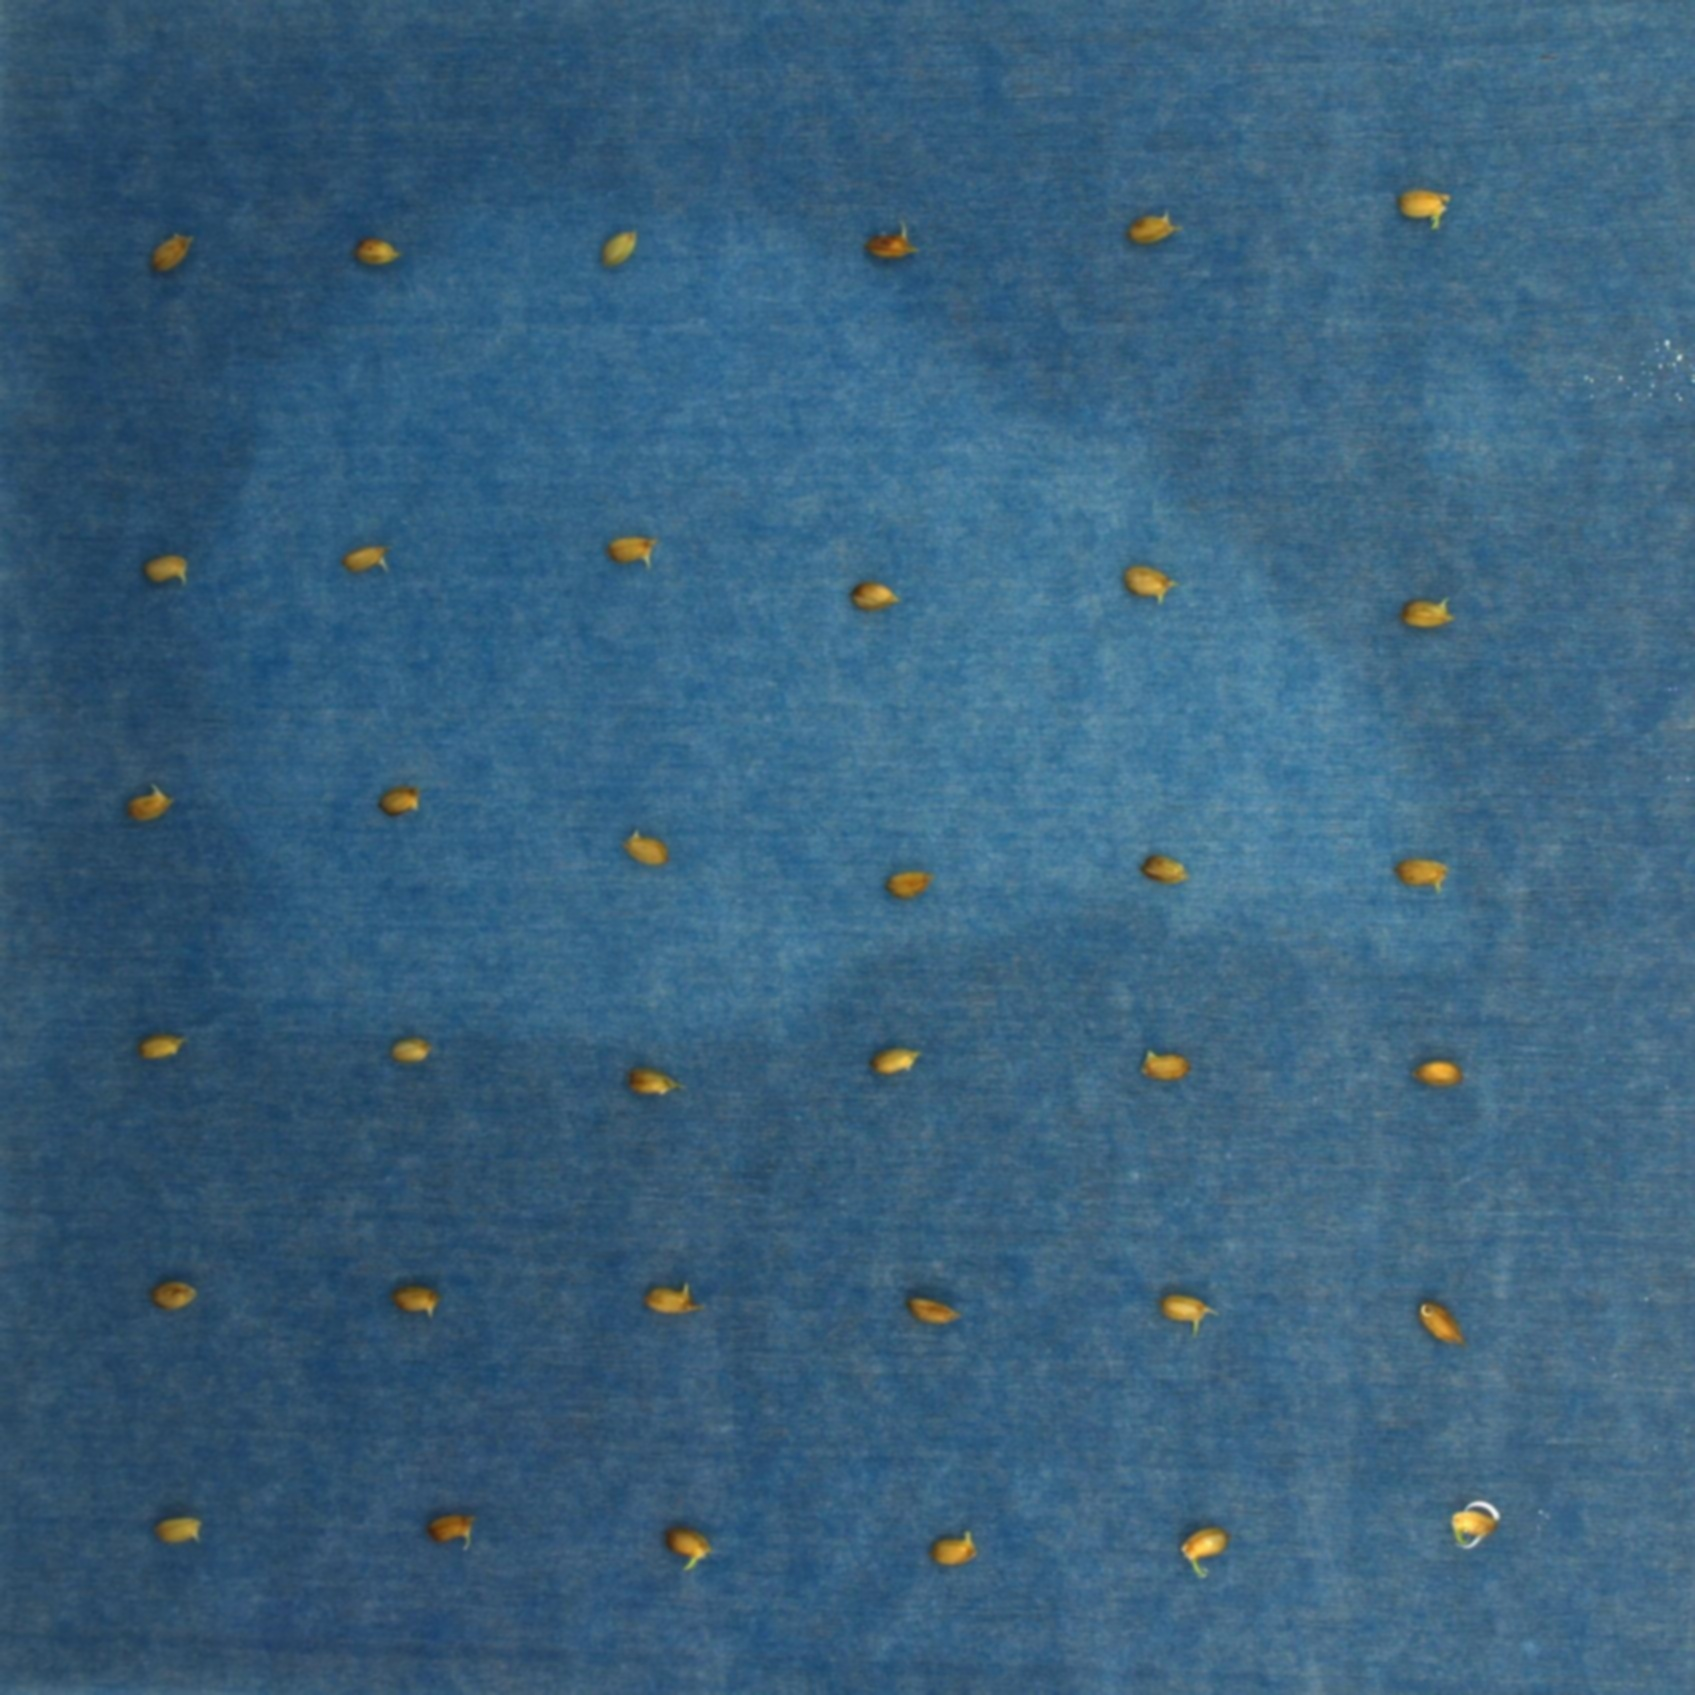not sprout: (866, 213, 924, 264), (1175, 1530, 1231, 1579), (1395, 851, 1453, 896), (1399, 591, 1458, 633), (1159, 1293, 1218, 1335), (1414, 1299, 1467, 1344), (643, 1281, 705, 1318), (1399, 186, 1451, 230), (1124, 563, 1177, 605), (1125, 206, 1180, 247), (126, 778, 172, 824), (664, 1527, 712, 1572), (147, 228, 196, 272), (351, 233, 405, 270), (868, 1045, 928, 1077), (599, 225, 644, 269), (621, 826, 667, 868), (605, 534, 660, 570), (1141, 1045, 1191, 1083), (930, 1530, 981, 1568), (155, 1510, 206, 1544), (386, 1034, 442, 1065), (430, 1513, 477, 1551), (1450, 1510, 1499, 1544), (883, 868, 934, 900), (1142, 855, 1195, 886), (343, 542, 391, 574), (144, 554, 189, 588), (373, 787, 424, 816), (851, 584, 903, 612), (151, 1277, 200, 1307), (138, 1031, 189, 1059), (1416, 1057, 1459, 1090), (632, 1069, 681, 1097), (397, 1287, 439, 1318), (910, 1298, 959, 1322)
